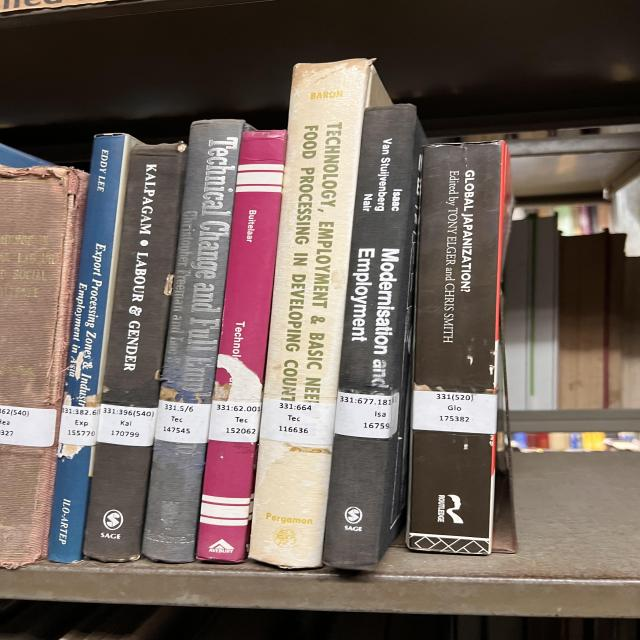Book: (248, 59, 390, 569), (142, 120, 252, 564), (323, 104, 425, 570), (83, 142, 187, 562), (407, 141, 512, 555), (47, 134, 138, 564), (197, 130, 287, 564), (0, 166, 88, 569)
Label: (412, 390, 497, 434), (260, 398, 335, 445), (335, 392, 398, 439), (97, 404, 157, 446), (155, 400, 210, 444), (208, 400, 262, 442)
